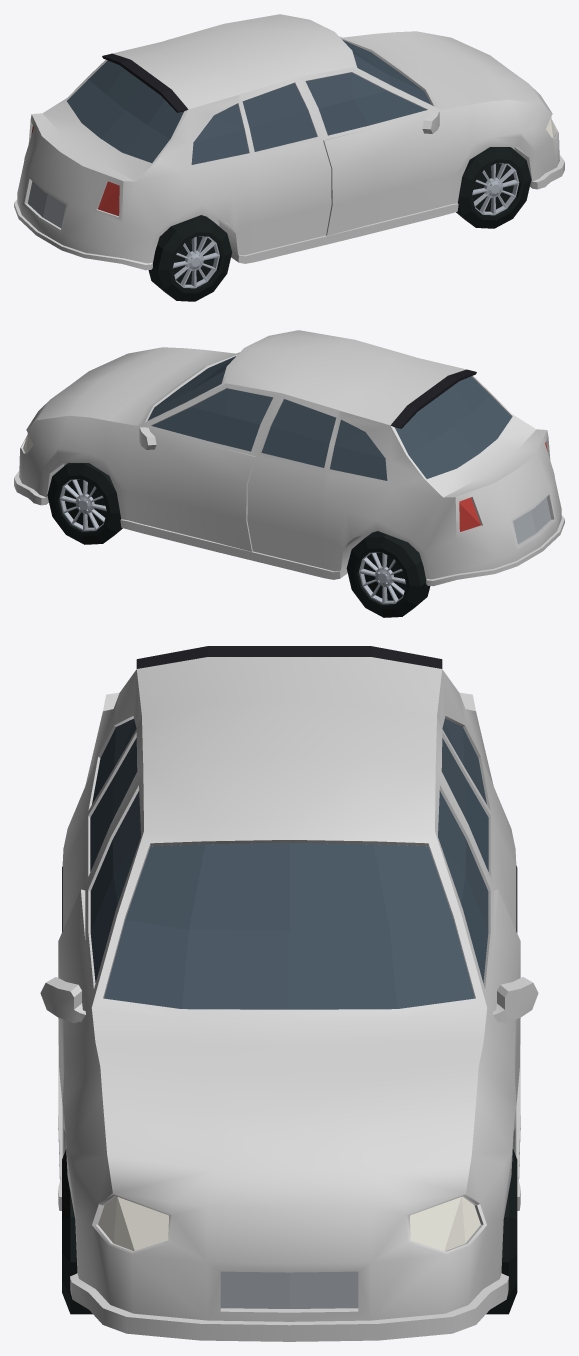
The model's file is carro_hatch.glb.
3 renders of one model, top to bottom at view 1: azimuth 30°, elevation 25°; view 2: azimuth 150°, elevation 25°; view 3: azimuth 270°, elevation 25°, orthographic. The views are drawn at different scales.
Parts seen in each view (by area): view 1: carroceria, vidro, detalhes, lanterna; view 2: carroceria, vidro, detalhes, lanterna; view 3: carroceria, vidro, detalhes, farol.
Boxes of the visible parts, x1,y1,x2,y2 form: carroceria: [14, 14, 564, 270]; vidro: [67, 40, 431, 164]; detalhes: [28, 53, 531, 301]; lanterna: [31, 126, 119, 216]; carroceria: [14, 330, 564, 586]; vidro: [147, 356, 511, 480]; detalhes: [47, 369, 551, 617]; lanterna: [459, 442, 547, 531]; carroceria: [40, 657, 538, 1341]; vidro: [90, 718, 488, 1009]; detalhes: [62, 646, 517, 1314]; farol: [98, 1196, 480, 1250].
Size of the model in its own units: 4.05 by 1.46 by 1.76.
